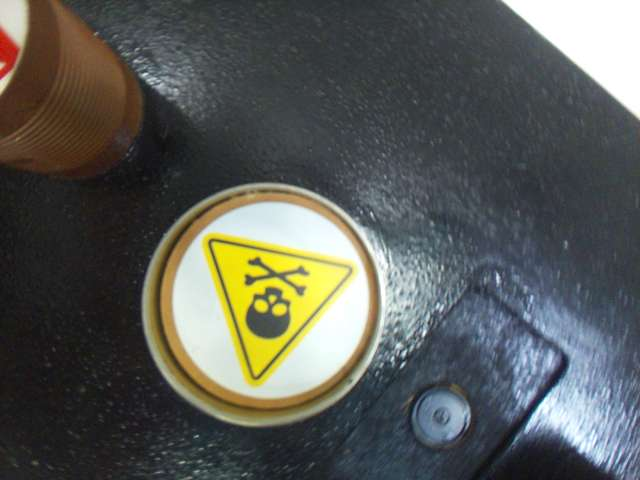toxic_fluid: (175, 204, 368, 397)
